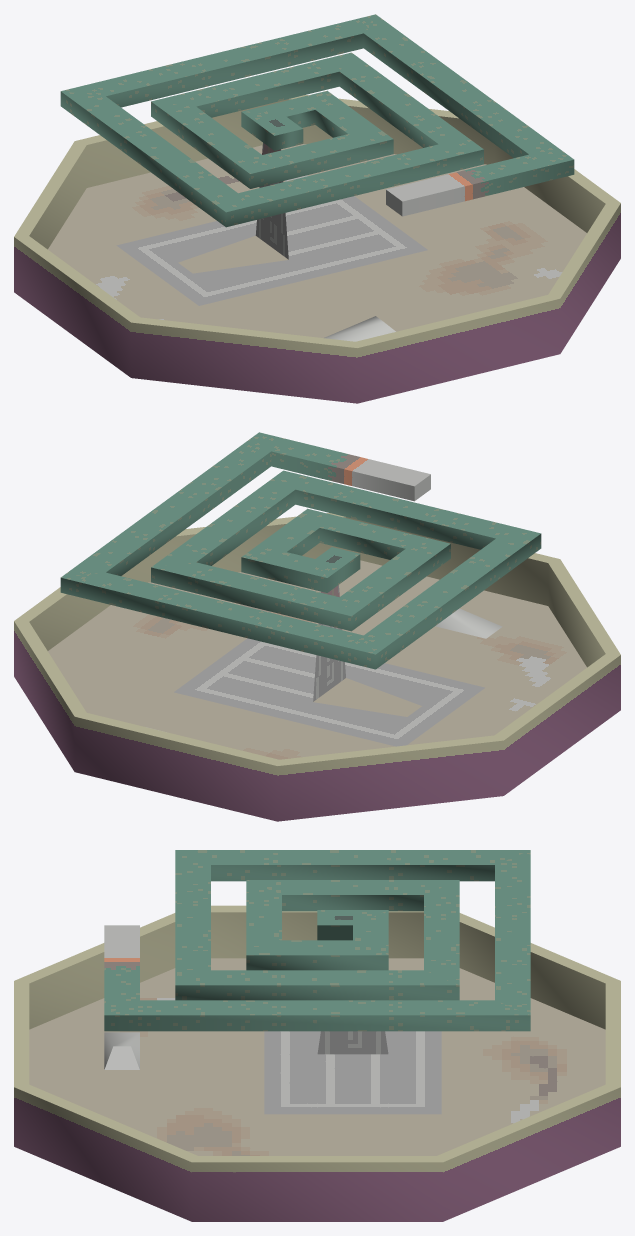
Rendered from 012c_Mosquito_Coil.glb.
3 renders of one model, top to bottom at view 1: azimuth 30°, elevation 25°; view 2: azimuth 150°, elevation 25°; view 3: azimuth 270°, elevation 25°, orthographic. The views are drawn at different scales.
Parts seen in each view (by area): view 1: part_0; view 2: part_0; view 3: part_0.
Boxes of the visible parts, <box> form: part_0: <box>14,14,620,403</box>; part_0: <box>14,432,620,821</box>; part_0: <box>14,850,620,1221</box>.
Size of the model in its own units: 0.1709 by 0.05 by 0.1709.
1 material, 1 textured.
